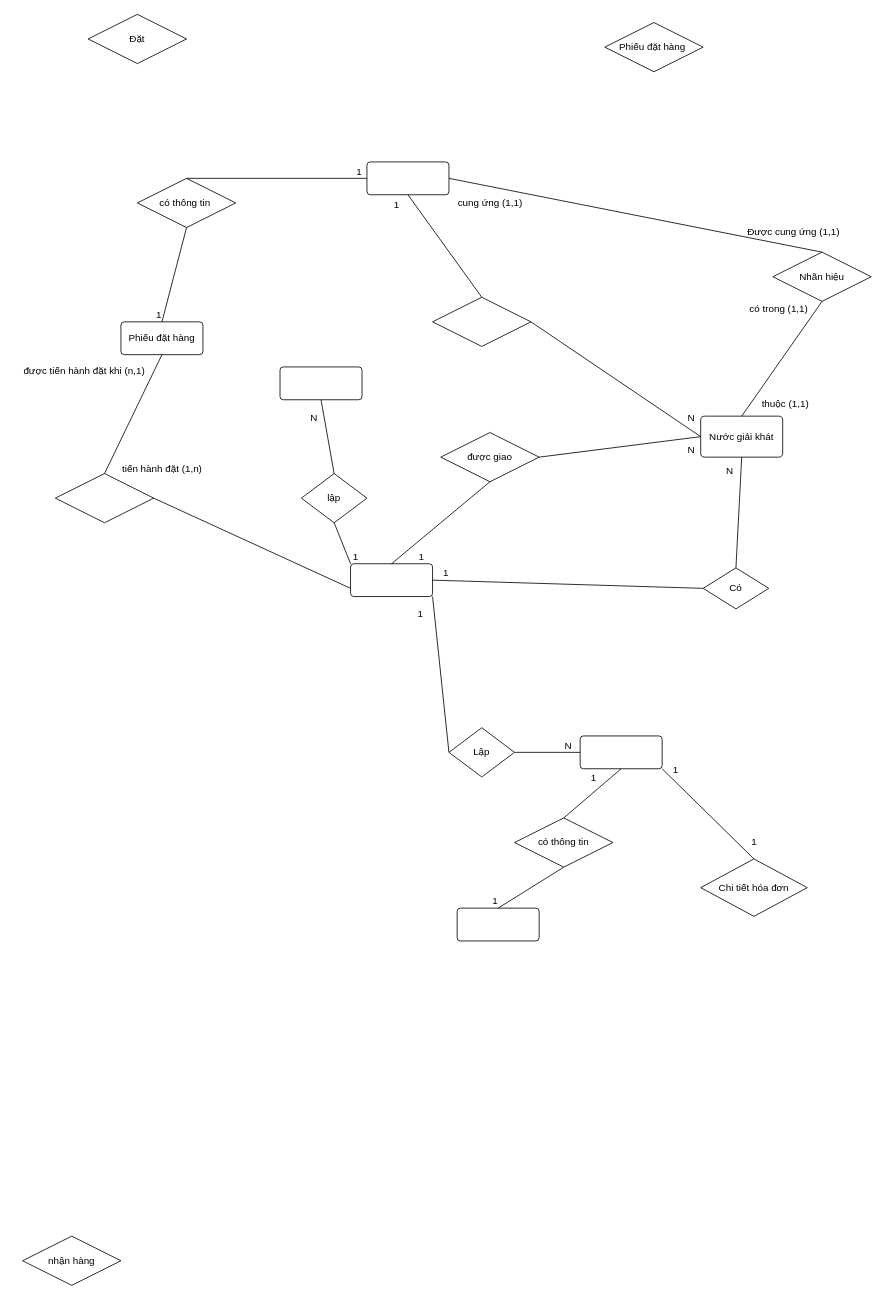
Some shapes in this 886 by 1300 pixel diagram are drawn without their labels. Here are the shapes that lost their labels. From the top down, the centre of each, then its label:
At (x=407, y=178): "Nhà cung cấp".
At (x=481, y=321): "giao hàng".
At (x=320, y=383): "Phiếu nhập hàng".
At (x=104, y=498): "Kiểm tra".
At (x=391, y=580): "Đại lý".
At (x=620, y=752): "Hóa đơn".
At (x=497, y=924): "Khách hàng".
